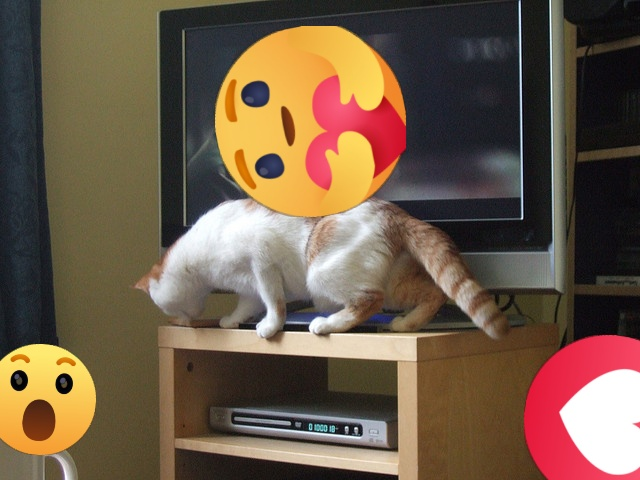care: (215, 26, 406, 217)
love: (524, 335, 640, 480)
wow: (0, 344, 96, 455)
